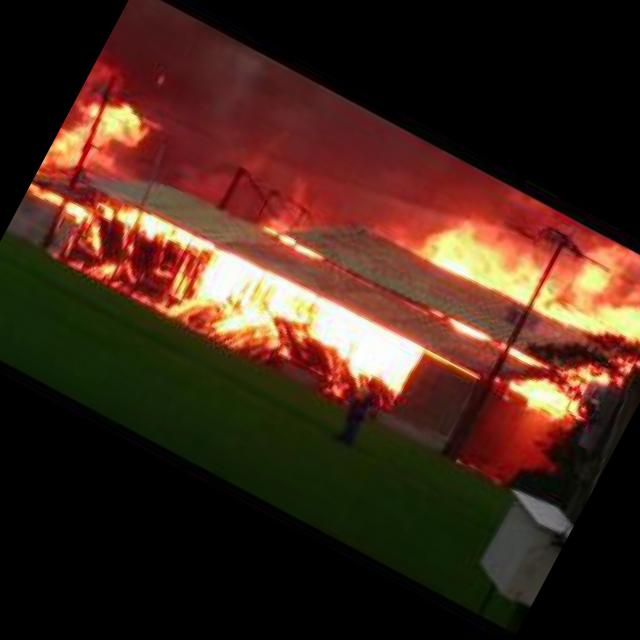fire: (175, 237, 428, 433), (413, 162, 640, 369), (57, 212, 206, 330), (490, 332, 610, 436), (92, 184, 214, 268), (256, 170, 352, 266), (428, 302, 493, 344)
